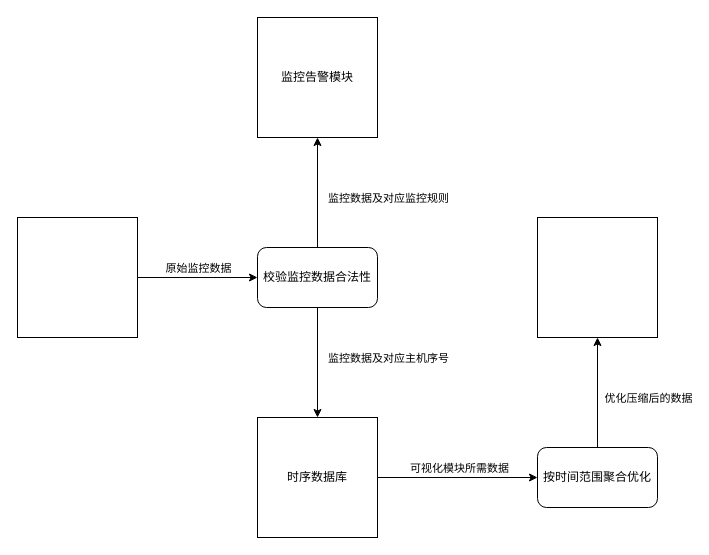
The diagram is 709 pixels wide and 555 high, and some of its shapes have lost their labels. Here are the shapes that lost their labels. From the top down, the centre of each, then its label:
At [77,277]: "数据采集模块".
At [597,277]: "数据可视化模块".
